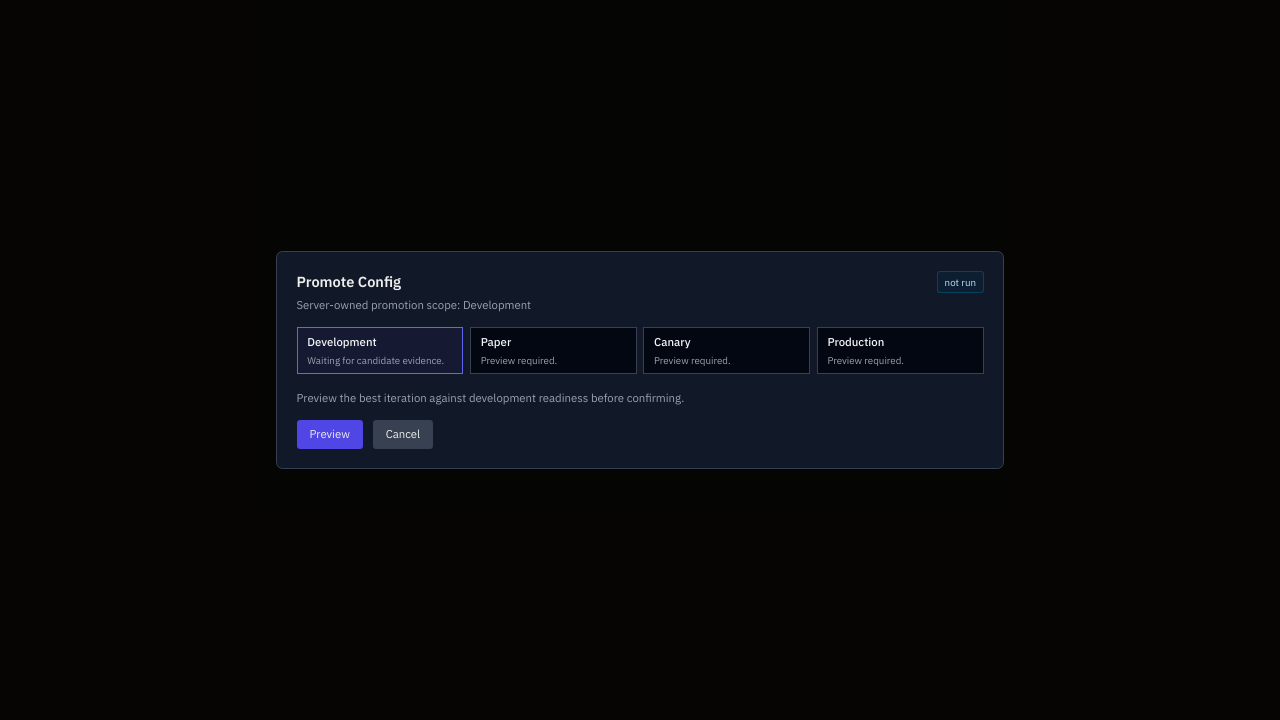
PromotionModal target_kind branching (P3-026) › shows the git branch target label when target_kind = git_branch
The image size is (1280, 720).
Click the button "Preview" at (330, 434), box [296, 420, 363, 449]
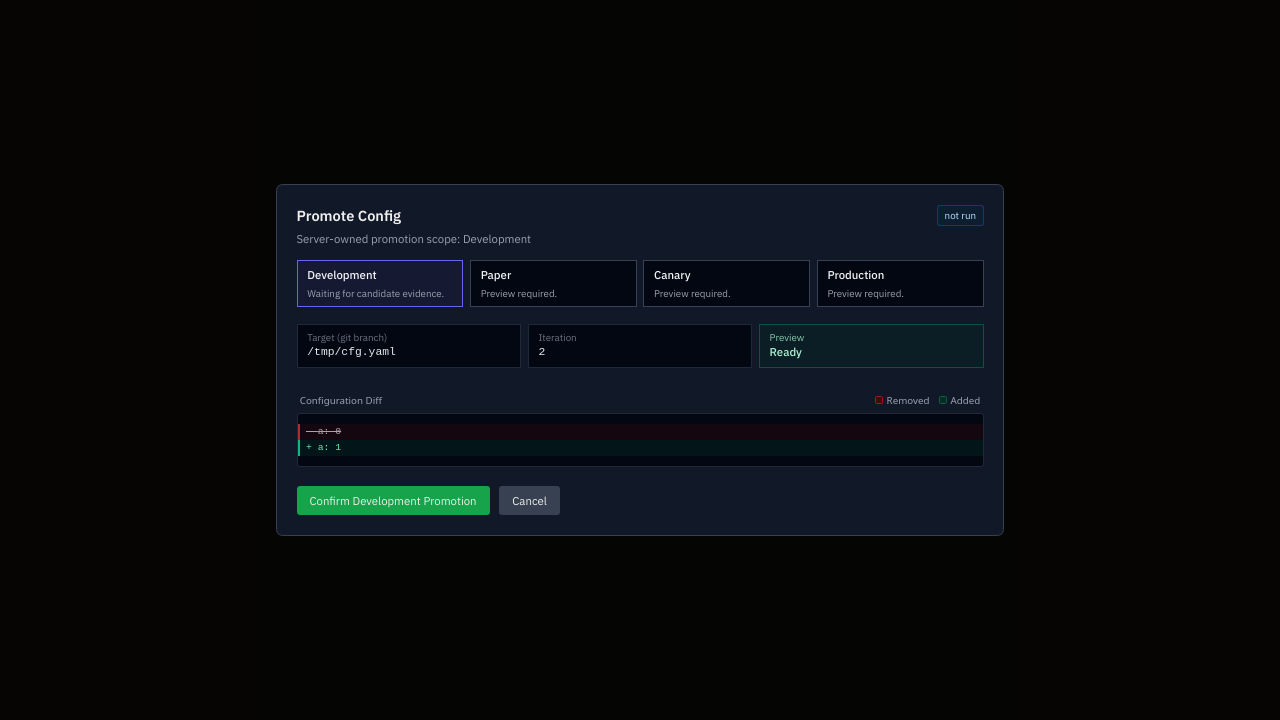
Check: the text "Target (git branch)" is shown, box [307, 331, 387, 344]
